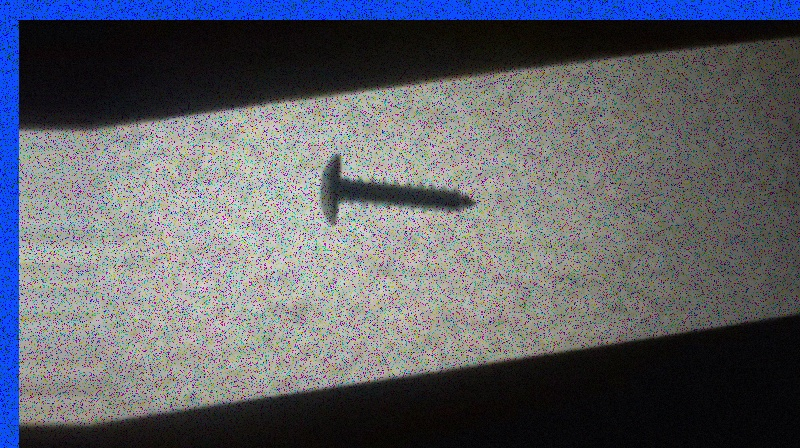S003: (313, 151, 480, 226)
